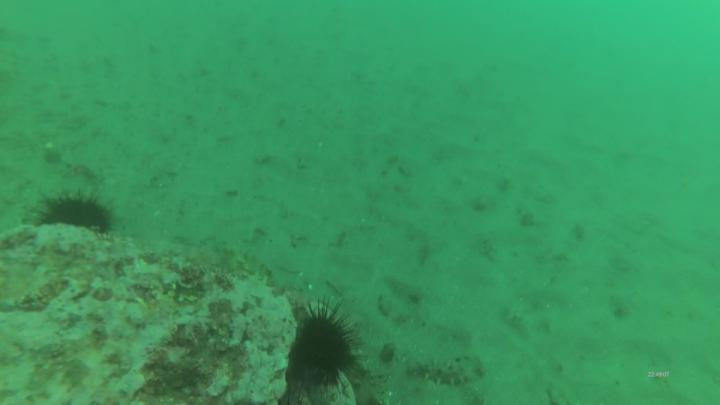echinus: (292, 300, 360, 397), (26, 187, 120, 236)
holothurian: (198, 244, 279, 291), (407, 350, 490, 391)
